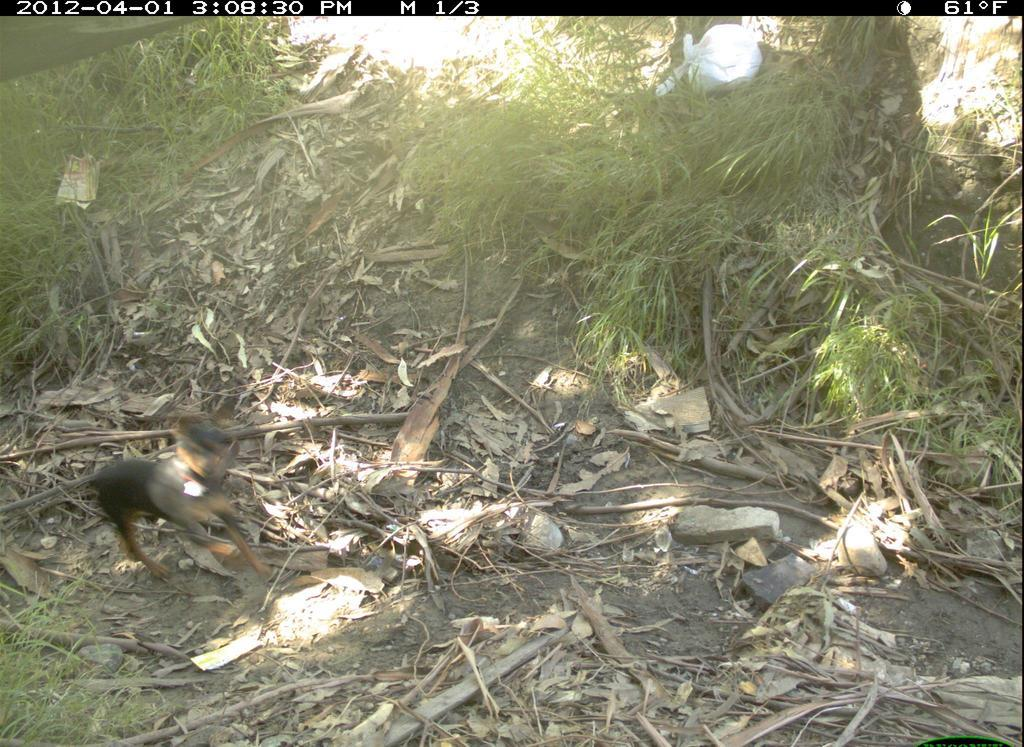dog: (61, 400, 280, 626)
